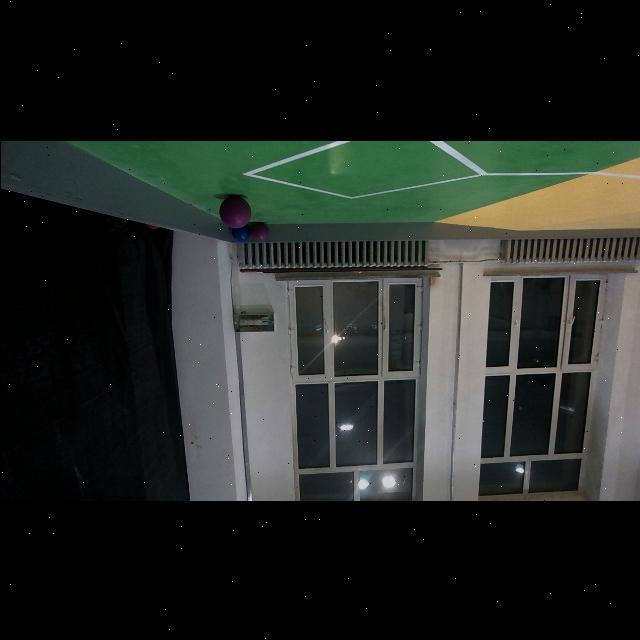B: (232, 223, 250, 240)
P: (218, 195, 250, 227), (250, 221, 268, 239)
